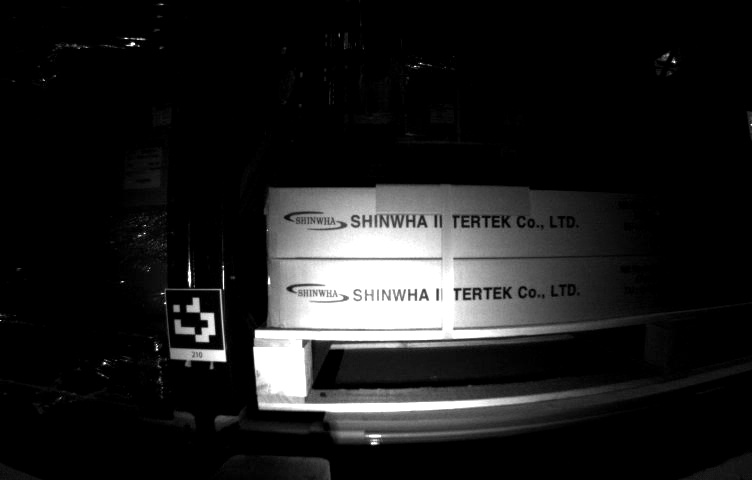True Barcode: (125, 149, 165, 187)
